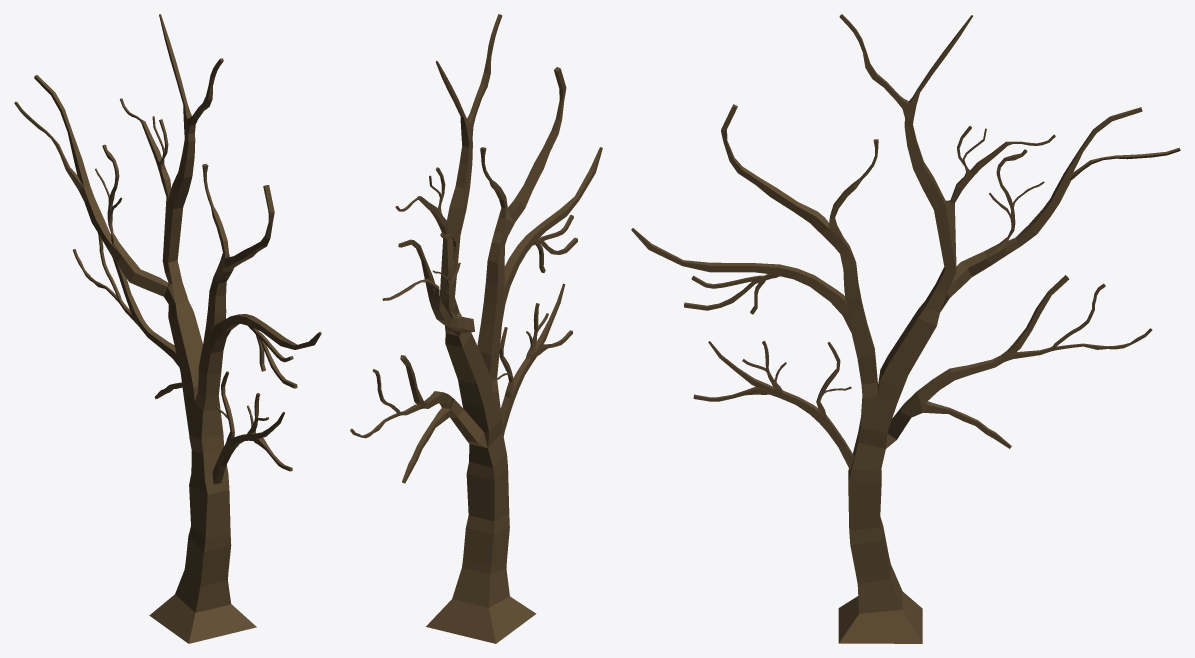
Rendered from arvoresemfolhas.fbx.
The picture shows the model from 3 angles, left to right: view 1: azimuth 30°, elevation 25°; view 2: azimuth 150°, elevation 25°; view 3: azimuth 270°, elevation 25°; orthographic projection. The views are drawn at different scales.
Visible parts, largest first — view 1: Plano; view 2: Plano; view 3: Plano.
Boxes of the visible parts, <box> form: Plano: <box>14,14,321,643</box>; Plano: <box>350,14,602,643</box>; Plano: <box>631,14,1180,643</box>.
Size of the model in its own units: 72.94 by 486 by 395.
